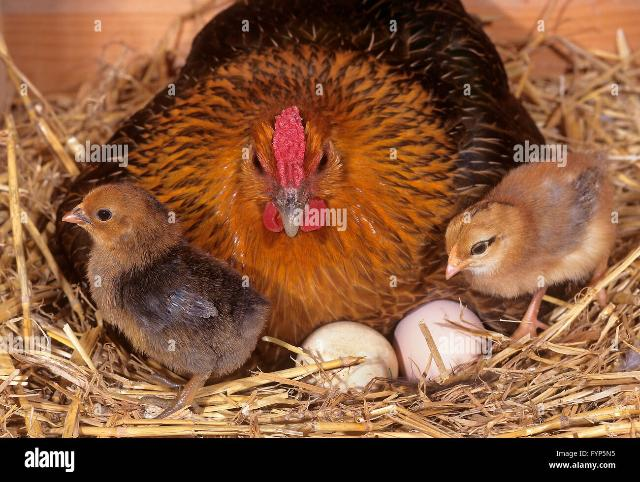Chicken: (62, 0, 550, 366), (59, 180, 273, 412), (445, 143, 626, 348)
